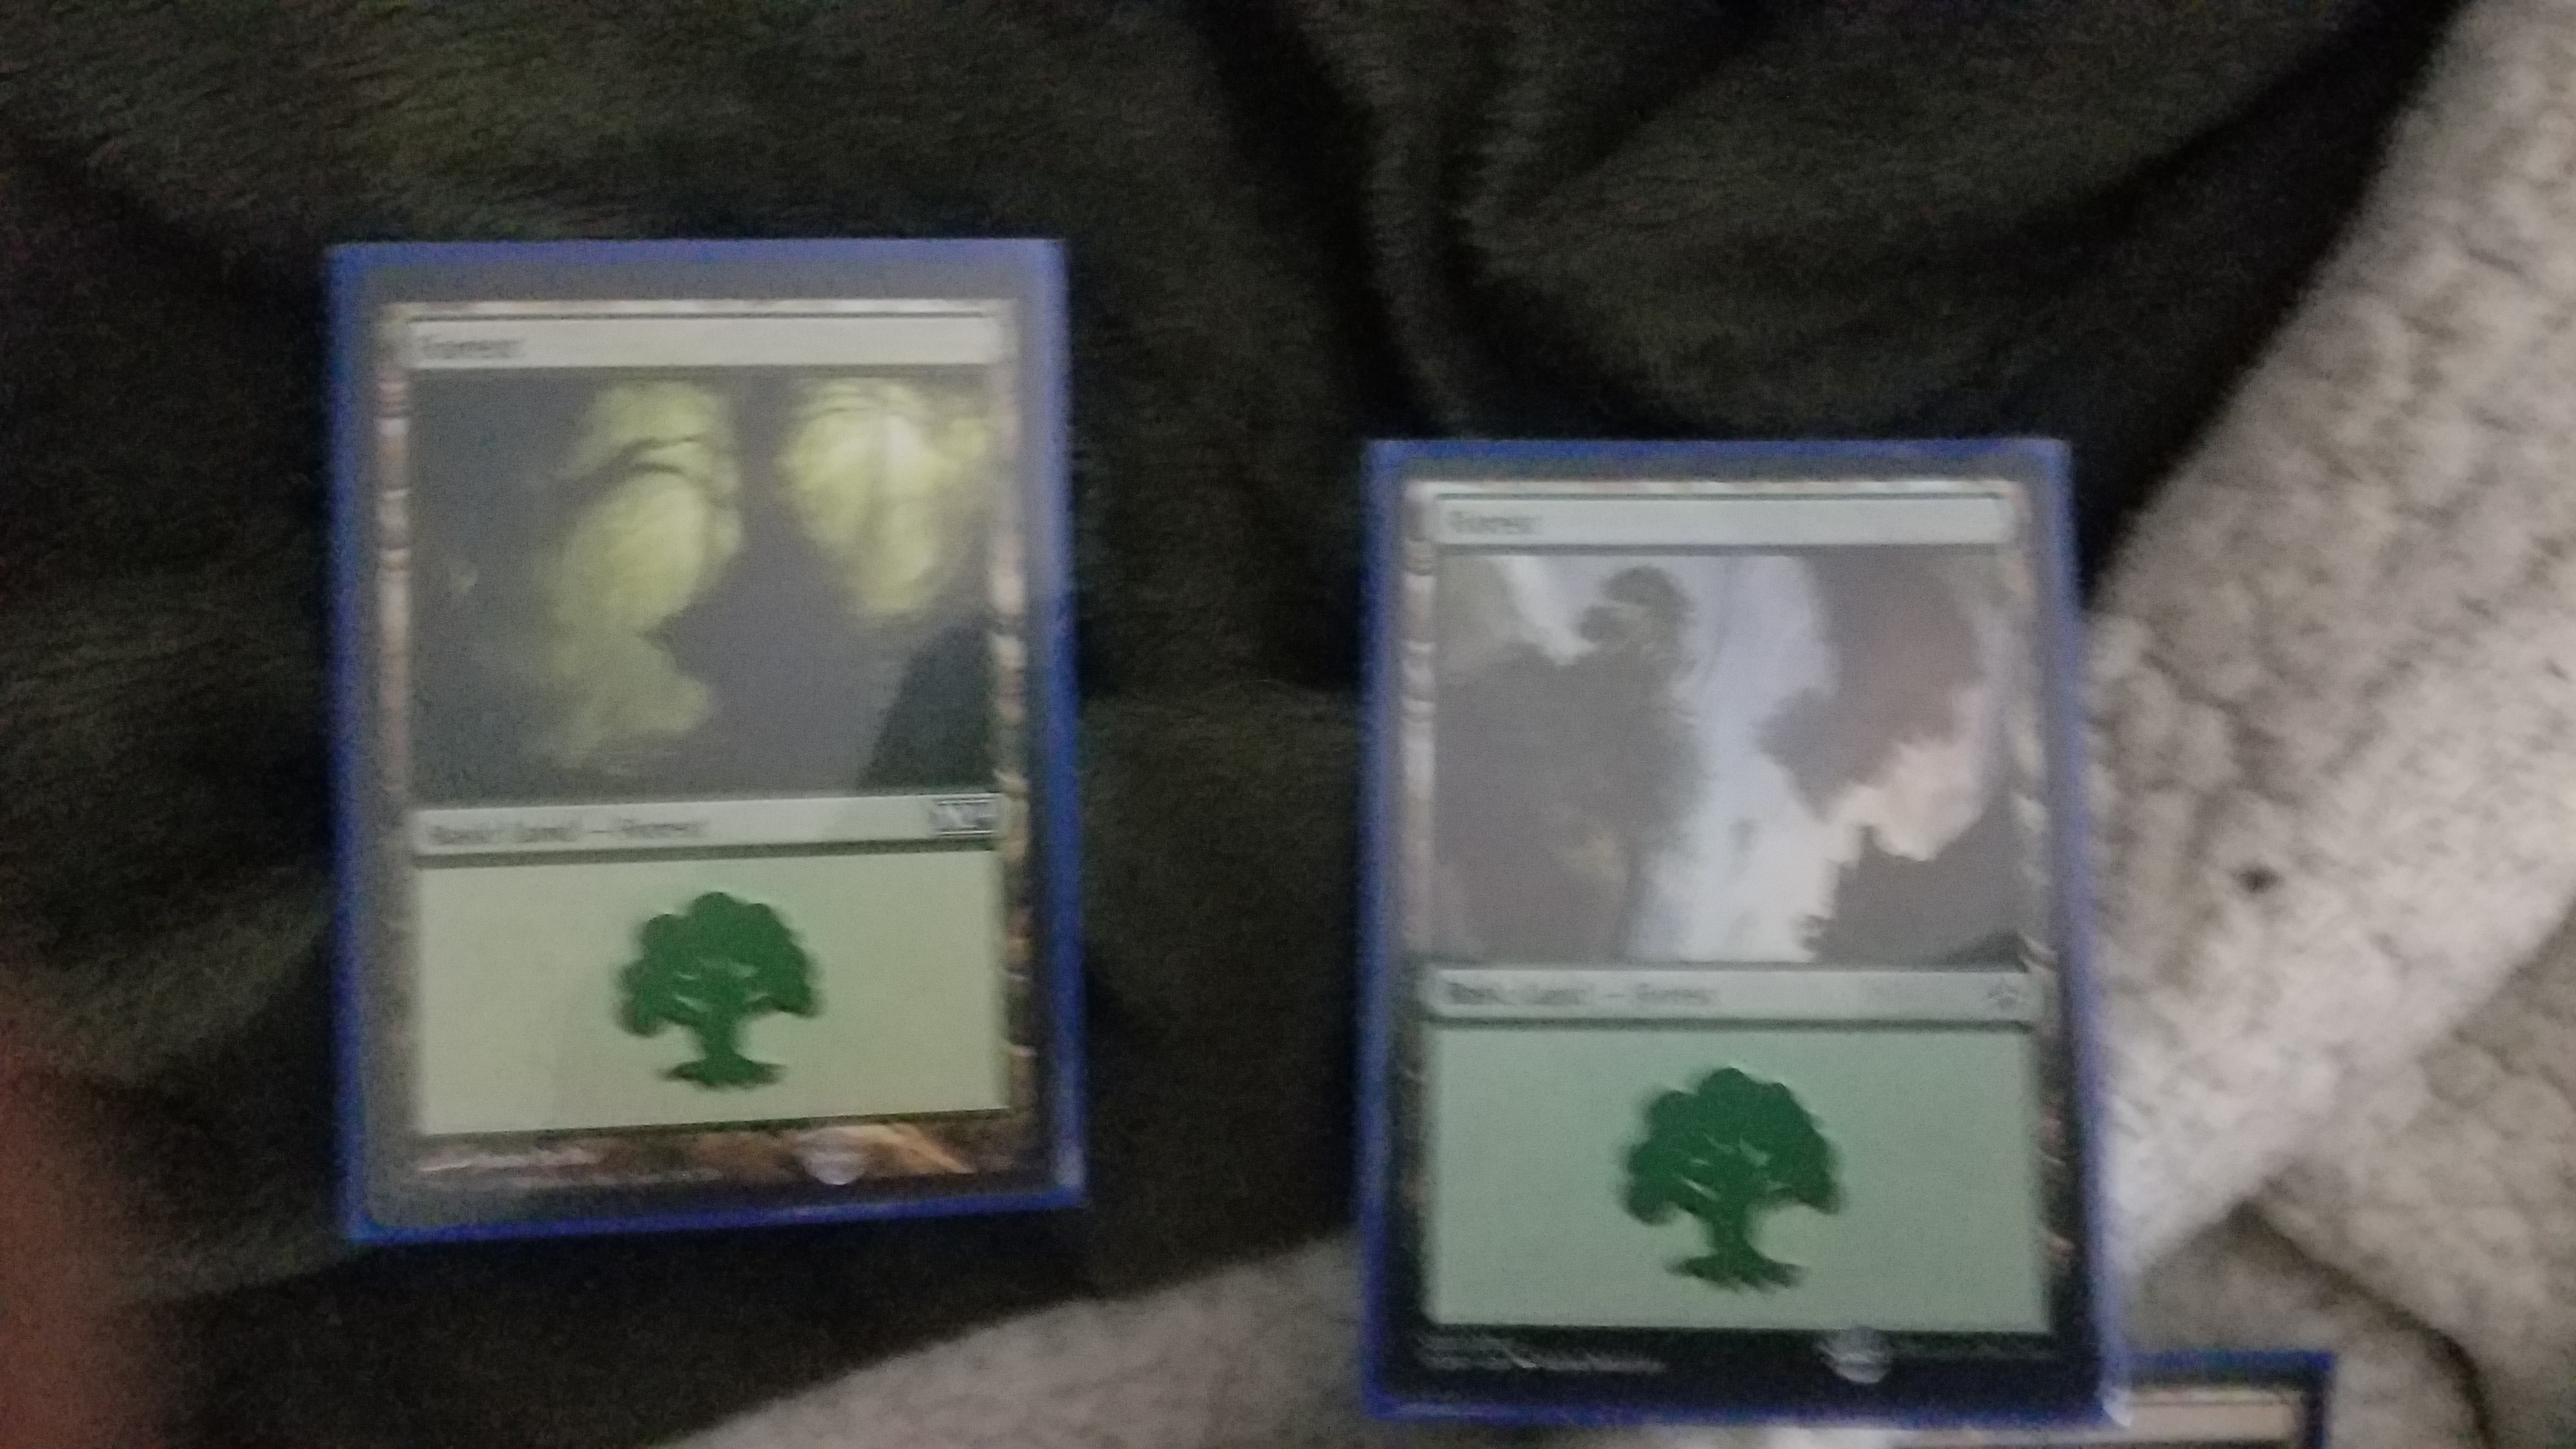Card: (1387, 449, 2123, 1419), (345, 264, 1076, 1233)
